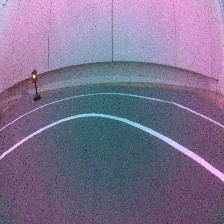amber: (28, 68, 44, 103)
